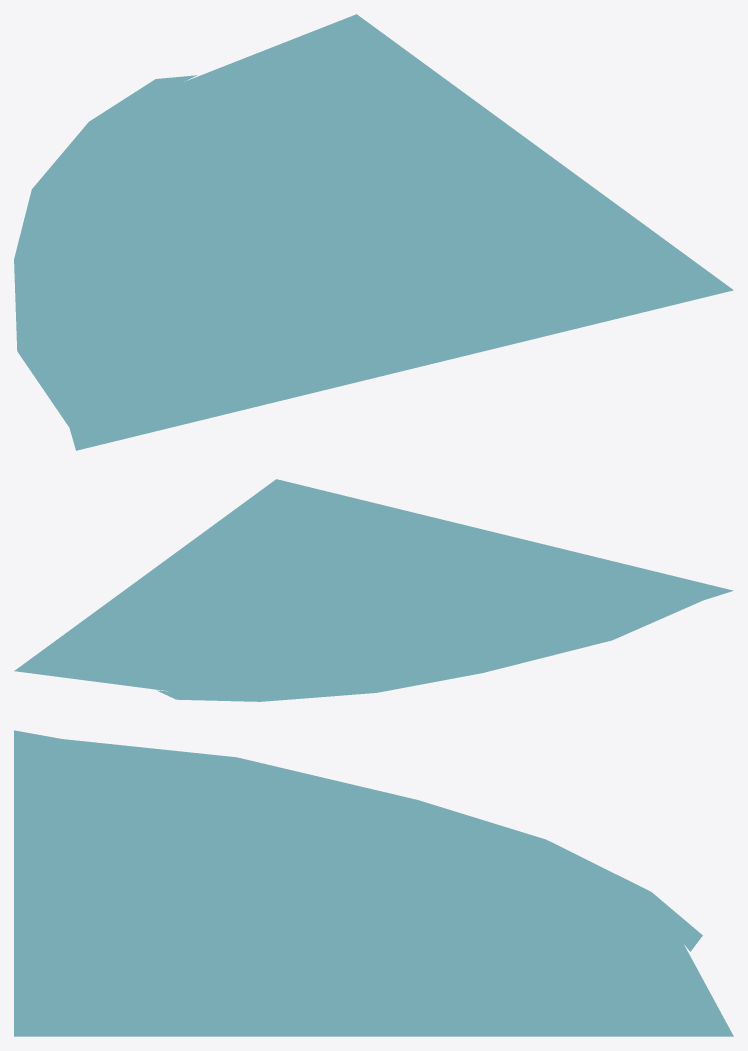
3 views of the same model, one above another, from view 1: azimuth 30°, elevation 25°; view 2: azimuth 150°, elevation 25°; view 3: azimuth 270°, elevation 25° (orthographic). The views are drawn at different scales.
Visible parts, largest first — view 1: city; view 2: city; view 3: city.
Part boxes in pixels (box(x1,y1,x2,y2)): city: box(14, 14, 733, 450); city: box(14, 479, 733, 701); city: box(14, 730, 733, 1036).
Bounding box in the file's own units: 70.37 × 0 × 69.89.
